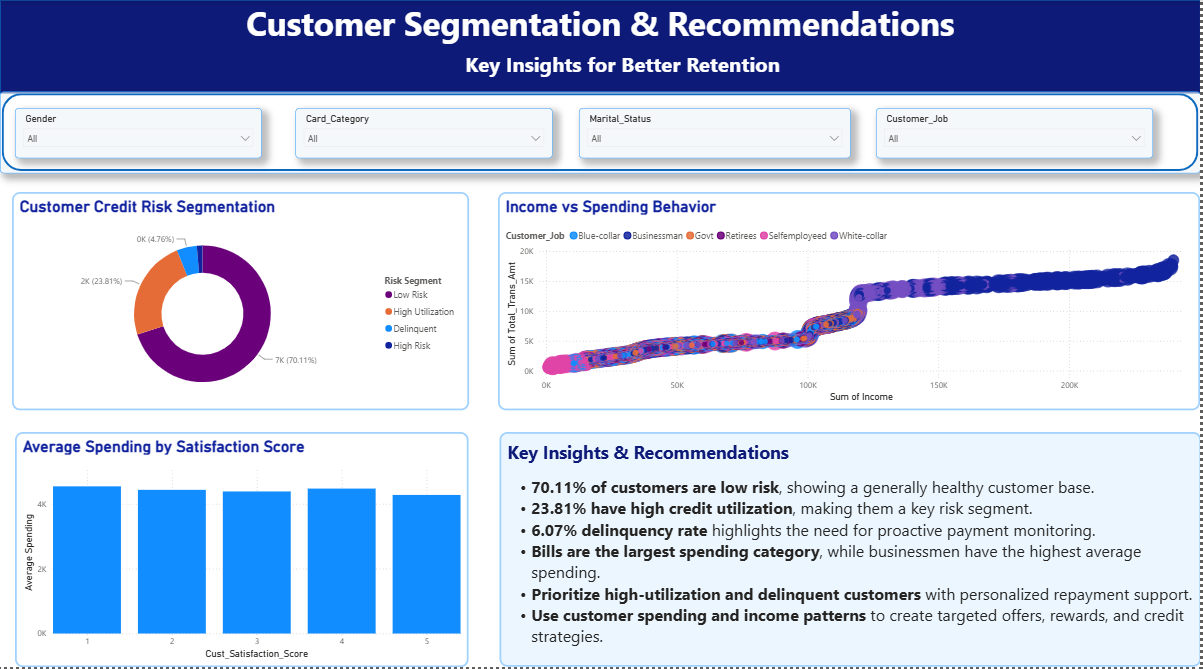

Layout of this report page (visuals, bound fields, positions):
{"tool":"powerbi","page":{"name":"Customer Segmentation & Recommendations","canvas":[1800,1000],"ordinal":3},"visuals":[{"type":"donutChart","title":"Customer Credit Risk Segmentation","fields":{"Category":["credit_card.Risk Segment"],"Y":["customer.Total Customers"]},"box":[17.5,287.5,685,327.5],"z":0},{"type":"scatterChart","title":"Income vs Spending Behavior","fields":{"Category":["credit_card.Client_Num"],"Series":["customer.Customer_Job"],"Size":["Sum(credit_card.Credit_Limit)"],"X":["Sum(customer.Income)"],"Y":["Sum(credit_card.Total_Trans_Amt)"]},"box":[747.5,287.5,1052.5,327.5],"z":1000},{"type":"clusteredColumnChart","title":"Average Spending by Satisfaction Score","fields":{"Category":["customer.Cust_Satisfaction_Score"],"Y":["credit_card.Average Spending"]},"box":[22.5,647.5,680,352.5],"z":2000},{"type":"shape","box":[0,0,1800,140],"z":2001},{"type":"shape","box":[540,70,787.5,52.5],"z":2002},{"type":"shape","box":[0,137.5,1800,122.5],"z":2003},{"type":"slicer","title":"Gender","fields":{"Values":["customer.Gender"]},"box":[22.5,162.5,370,75],"z":2004},{"type":"slicer","fields":{"Values":["credit_card.Card_Category"]},"box":[442.5,162.5,385,75],"z":2005},{"type":"slicer","fields":{"Values":["customer.Marital_Status"]},"box":[867.5,162.5,407.5,75],"z":2006},{"type":"slicer","fields":{"Values":["customer.Customer_Job"]},"box":[1312.5,162.5,415,75],"z":2007},{"type":"textbox","box":[748,648,1052,352],"z":2008}]}

Visuals, with their boxes in screenshot pixels (x1, y1, x2, y2), scaled from the page's 1800x1000 canvas onto the 1203x669 screenshot:
"Customer Credit Risk Segmentation" donutChart: crop(12, 192, 470, 411)
"Income vs Spending Behavior" scatterChart: crop(500, 192, 1202, 411)
"Average Spending by Satisfaction Score" clusteredColumnChart: crop(15, 433, 470, 668)
shape: crop(0, 0, 1202, 94)
shape: crop(361, 47, 887, 82)
shape: crop(0, 92, 1202, 174)
"Gender" slicer: crop(15, 109, 262, 159)
slicer - credit_card.Card_Category: crop(296, 109, 553, 159)
slicer - customer.Marital_Status: crop(580, 109, 852, 159)
slicer - customer.Customer_Job: crop(877, 109, 1155, 159)
textbox: crop(500, 434, 1202, 668)
